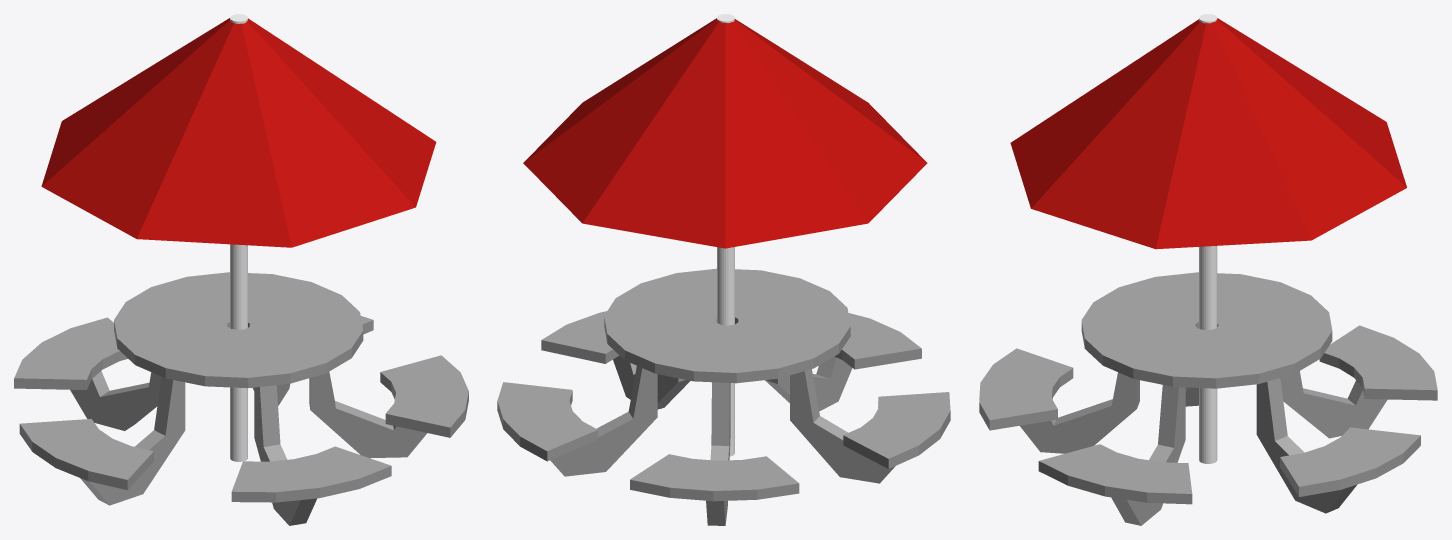
Rendered from Sin+título (2).dae.
The picture shows the model from 3 angles, left to right: view 1: azimuth 30°, elevation 25°; view 2: azimuth 150°, elevation 25°; view 3: azimuth 270°, elevation 25°; orthographic projection.
Parts seen in each view (by area): view 1: Umbrella, Top, Seat_copy_004 (×2), Seat_copy_002 (×2), Seat_copy_003 (×2), Seat_copy_001 (×2), Pole; view 2: Umbrella, Top, Seat (×2), Seat_copy_002 (×2), Seat_copy_001 (×2), Seat_copy_003 (×2), Seat_copy_004 (×2), Pole; view 3: Umbrella, Top, Seat_copy_003 (×2), Seat (×2), Seat_copy_001 (×2), Seat_copy_004 (×2), Pole.
Boxes of the visible parts, box(x1,y1,x2,y2) form: Umbrella: box(41, 18, 436, 247); Top: box(114, 272, 363, 388); Seat_copy_004 (×2): box(309, 355, 468, 458); Seat_copy_002 (×2): box(19, 377, 185, 505); Seat_copy_003 (×2): box(231, 385, 391, 525); Seat_copy_001 (×2): box(14, 317, 161, 430); Pole: box(230, 14, 247, 461); Umbrella: box(523, 18, 927, 248); Top: box(604, 268, 850, 383); Seat (×2): box(497, 366, 657, 476); Seat_copy_002 (×2): box(790, 369, 950, 483); Seat_copy_001 (×2): box(630, 382, 799, 525); Seat_copy_003 (×2): box(765, 313, 921, 411); Seat_copy_004 (×2): box(541, 311, 690, 409); Pole: box(717, 14, 734, 456); Umbrella: box(1010, 18, 1406, 249); Top: box(1081, 272, 1332, 388); Seat_copy_003 (×2): box(979, 348, 1139, 453); Seat (×2): box(1256, 378, 1420, 513); Seat_copy_001 (×2): box(1280, 325, 1437, 438); Seat_copy_004 (×2): box(1038, 385, 1192, 525); Pole: box(1199, 14, 1217, 463).
Bounding box in the file's own units: 101 × 101 × 107.
